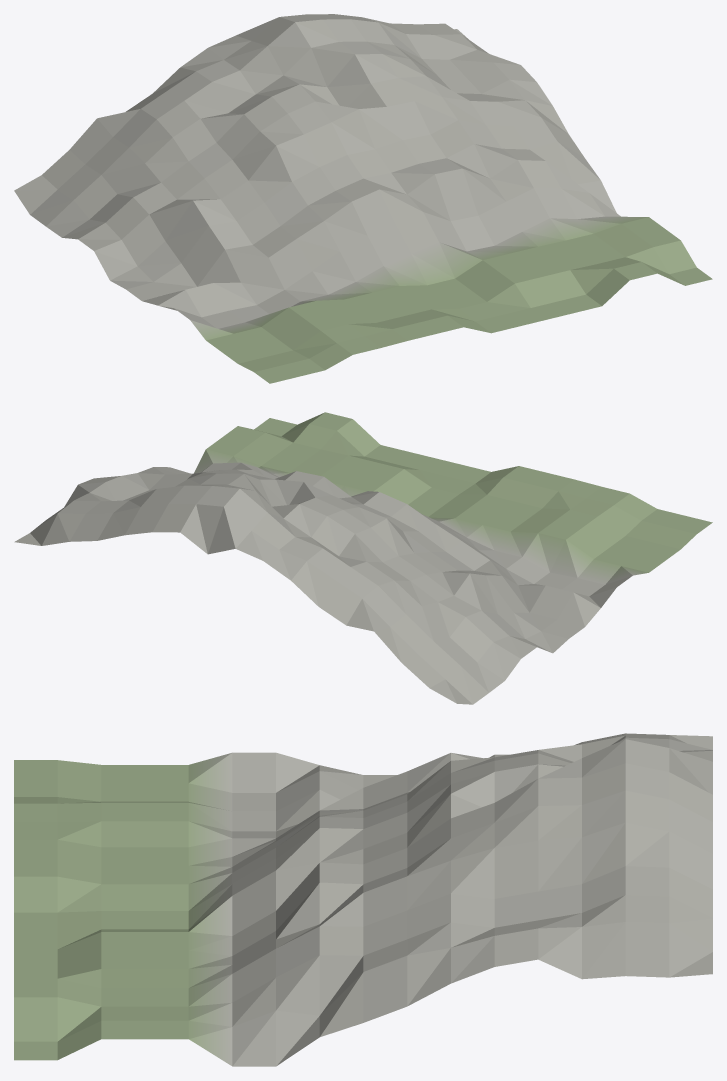
3 renders of one model, top to bottom at view 1: azimuth 30°, elevation 25°; view 2: azimuth 150°, elevation 25°; view 3: azimuth 270°, elevation 25°, orthographic. The views are drawn at different scales.
Size of the model in its own units: 32 by 10.41 by 32.
